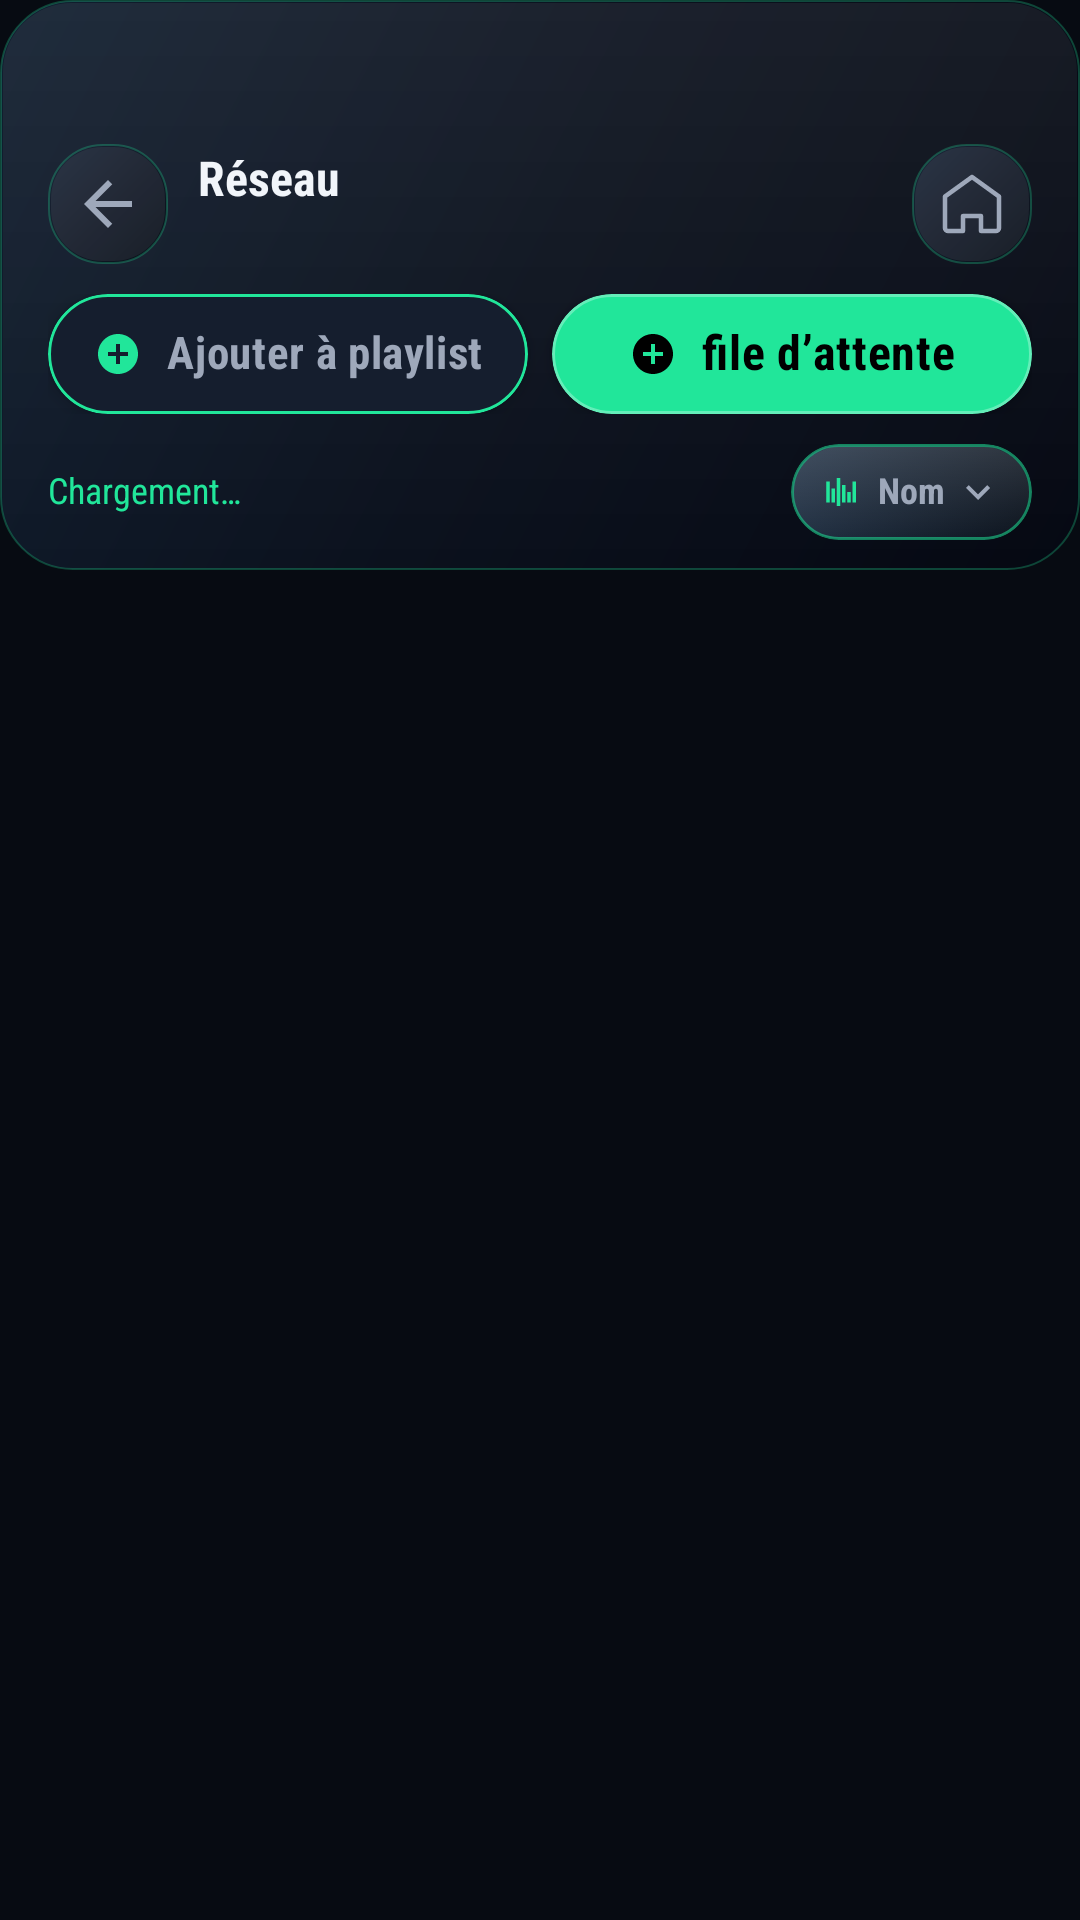

Point at icon controls on the screen. Image size 1080 x 1920, points as [x,y].
Accueil: [972,204]
equalizer: [841,492]
Retour: [108,204]
